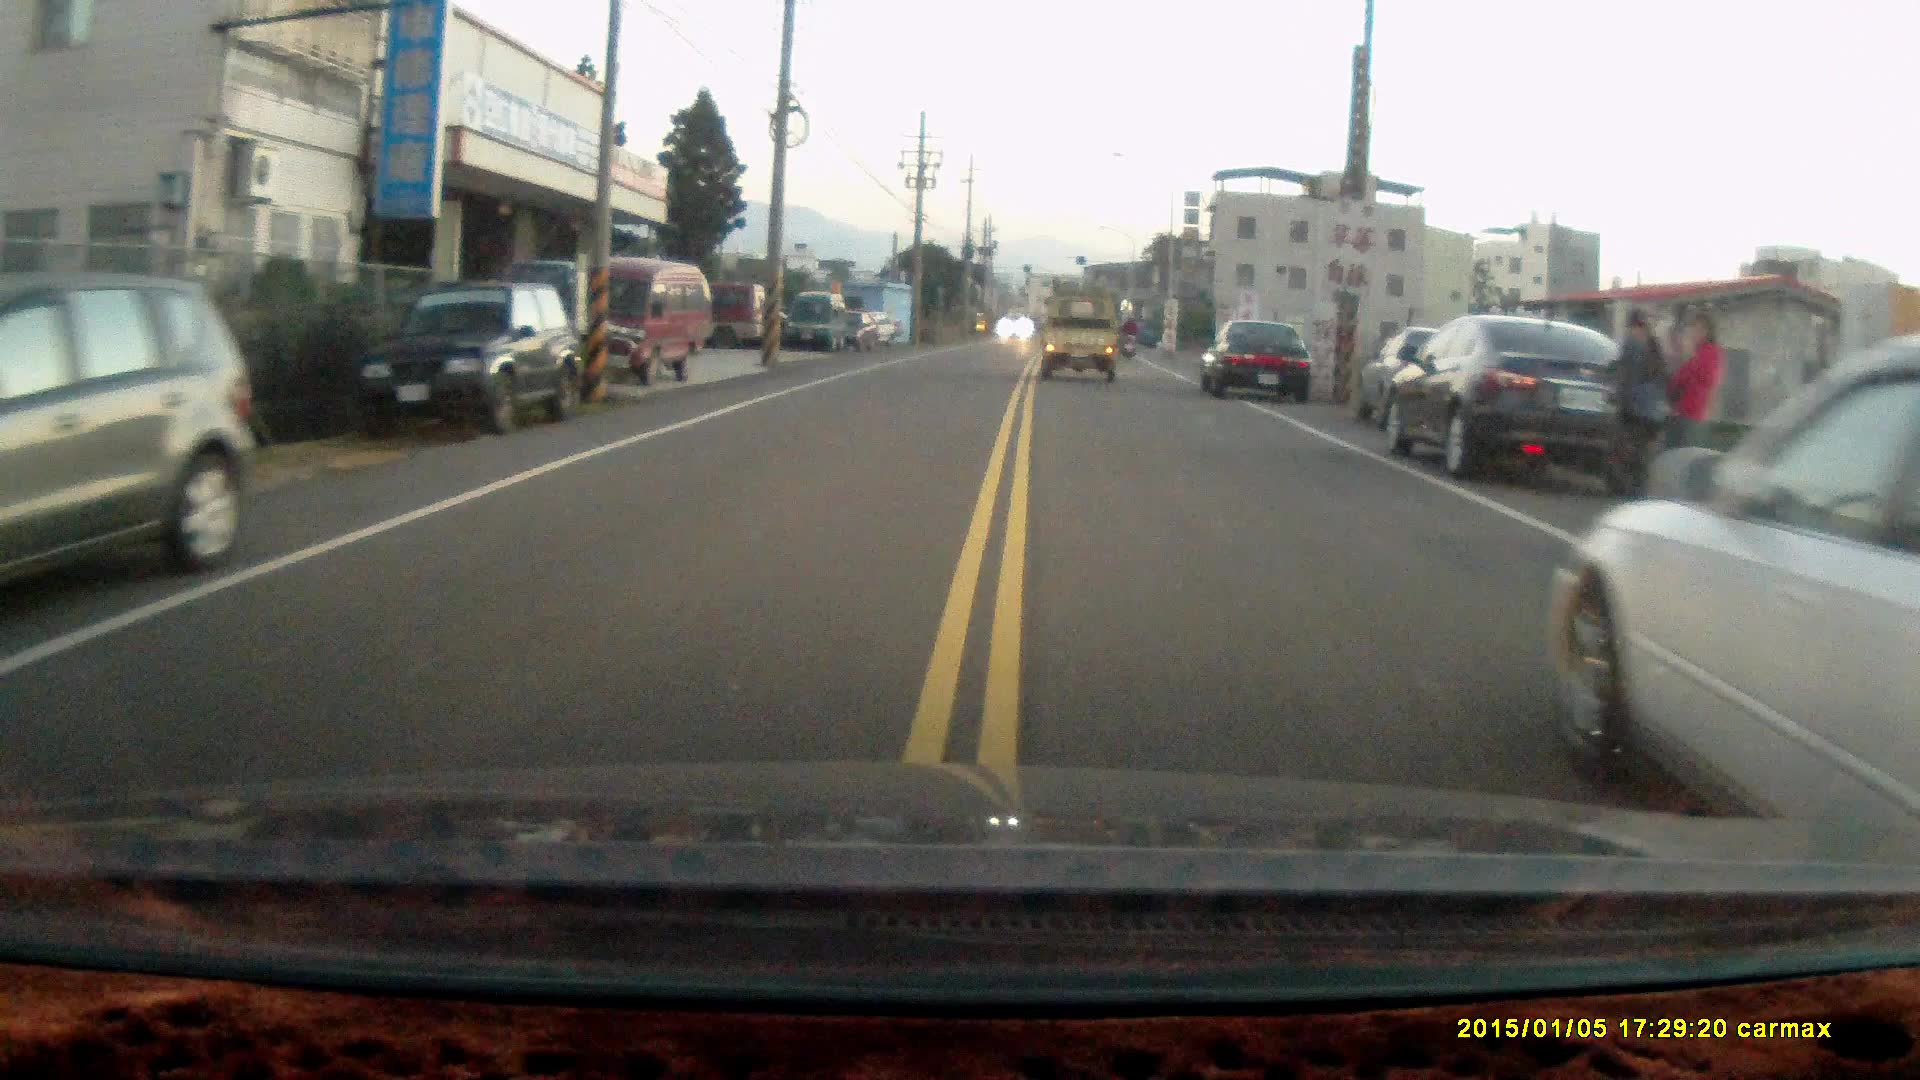pedestrian: (1595, 307, 1671, 522), (1655, 311, 1725, 522)
vehicle: (1546, 331, 1920, 837), (2, 266, 260, 606), (1377, 317, 1670, 485), (358, 279, 573, 437), (548, 254, 717, 383), (1201, 320, 1316, 404), (1037, 289, 1123, 386), (782, 293, 851, 351)
